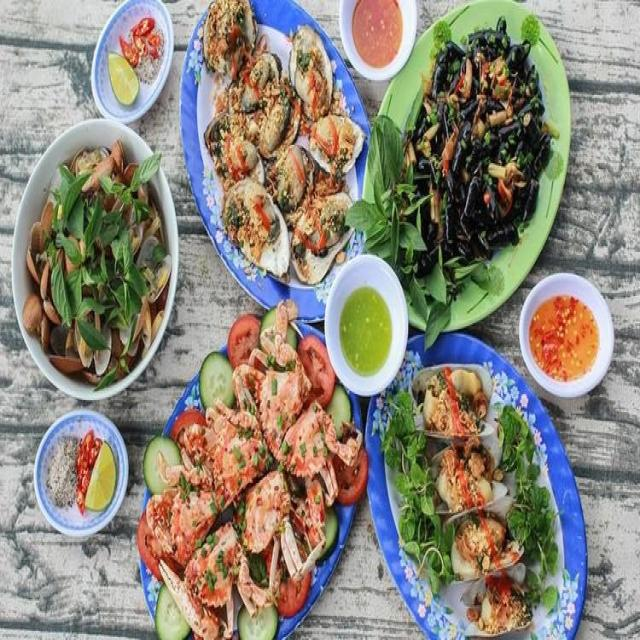ghe rang muoi: (163, 326, 331, 640)
hau nuong mo hanh: (184, 0, 367, 273)
mam ot: (527, 278, 605, 389)
muoi hai san: (332, 267, 398, 391)
muoi tieu chanh: (30, 413, 129, 535), (98, 0, 178, 111)
oc dinh xao: (422, 17, 551, 251)
oc ngon tay nuong mo hanh: (402, 372, 564, 640)
so hap: (34, 155, 166, 381)
